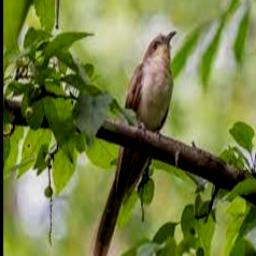Cuckoo: (85, 30, 177, 256)
